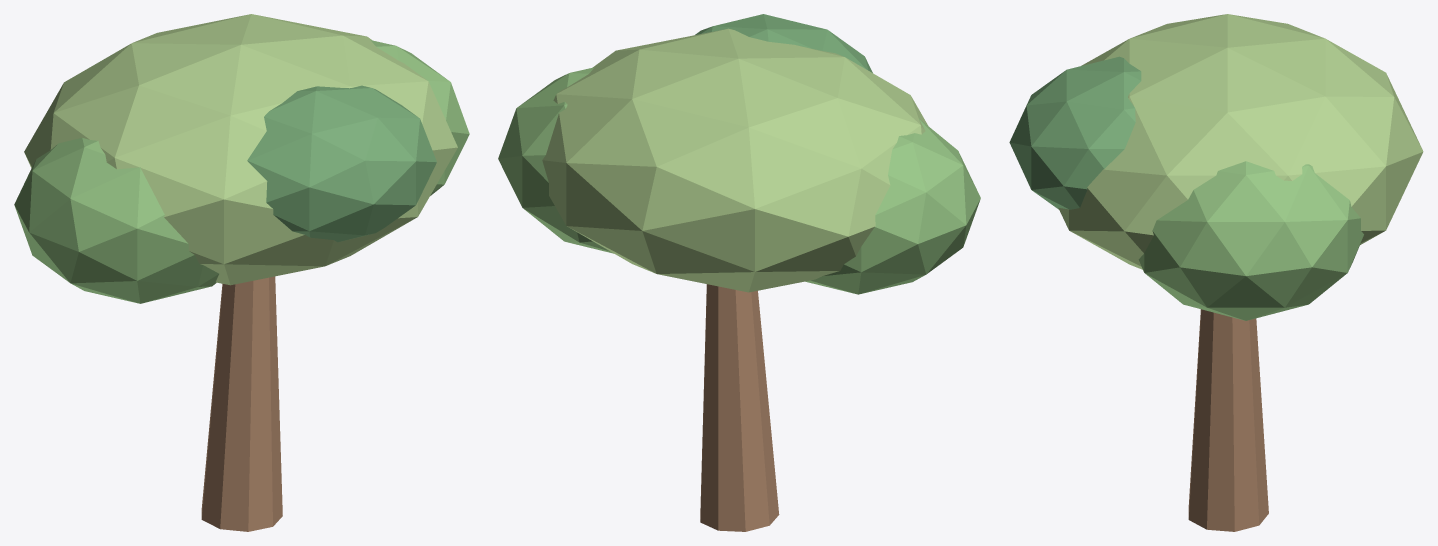
Rendered from tree_b_short_wide.glb.
3 views of the same model, side by side, from view 1: azimuth 30°, elevation 25°; view 2: azimuth 150°, elevation 25°; view 3: azimuth 270°, elevation 25° (orthographic). The views are drawn at different scales.
Parts seen in each view (by area): view 1: canopy_0, canopy_3, canopy_1, trunk, canopy_2; view 2: canopy_0, trunk, canopy_1, canopy_2, canopy_3; view 3: canopy_0, canopy_2, trunk, canopy_3.
Part boxes in pixels (x1=…): canopy_0: x1=24, y1=14, x2=457, y2=285; canopy_3: x1=247, y1=85, x2=436, y2=242; canopy_1: x1=14, y1=137, x2=218, y2=303; trunk: x1=201, y1=276, x2=282, y2=531; canopy_2: x1=370, y1=40, x2=469, y2=195; canopy_0: x1=542, y1=28, x2=928, y2=292; trunk: x1=700, y1=284, x2=779, y2=531; canopy_1: x1=805, y1=118, x2=980, y2=294; canopy_2: x1=498, y1=67, x2=613, y2=253; canopy_3: x1=695, y1=14, x2=872, y2=72; canopy_0: x1=1058, y1=14, x2=1423, y2=269; canopy_2: x1=1138, y1=161, x2=1363, y2=320; trunk: x1=1188, y1=309, x2=1268, y2=531; canopy_3: x1=1009, y1=56, x2=1141, y2=209.
Bounding box in the file's own units: 6.9 × 6.97 × 5.6.
